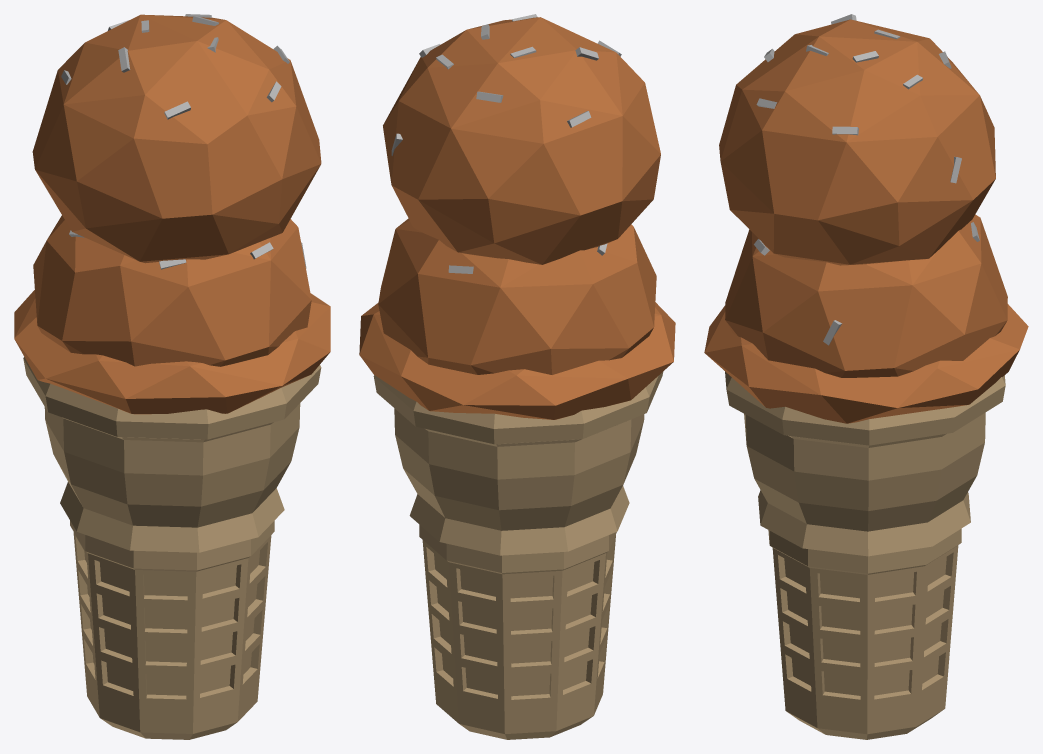
File: IceCream_4.glb
3 renders of one model, left to right at view 1: azimuth 30°, elevation 25°; view 2: azimuth 150°, elevation 25°; view 3: azimuth 270°, elevation 25°, orthographic.
Visible parts, largest first — view 1: IceCream_4; view 2: IceCream_4; view 3: IceCream_4.
Boxes of the visible parts, x1=… form: IceCream_4: x1=14, y1=14, x2=330, y2=739; IceCream_4: x1=359, y1=14, x2=675, y2=739; IceCream_4: x1=704, y1=14, x2=1028, y2=739.
Size of the model in its own units: 0.5155 by 1.18 by 0.5155.
